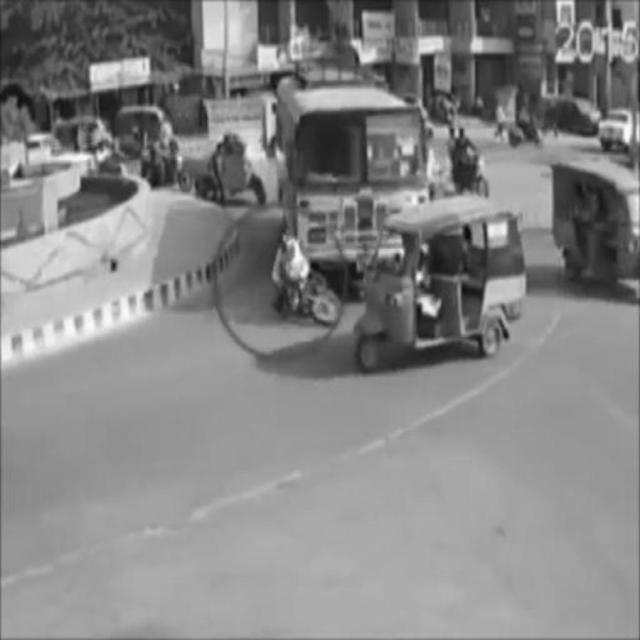accident: (274, 83, 428, 325)
vehicle: (356, 201, 526, 369), (547, 159, 640, 299), (181, 133, 267, 206), (445, 125, 491, 196)
